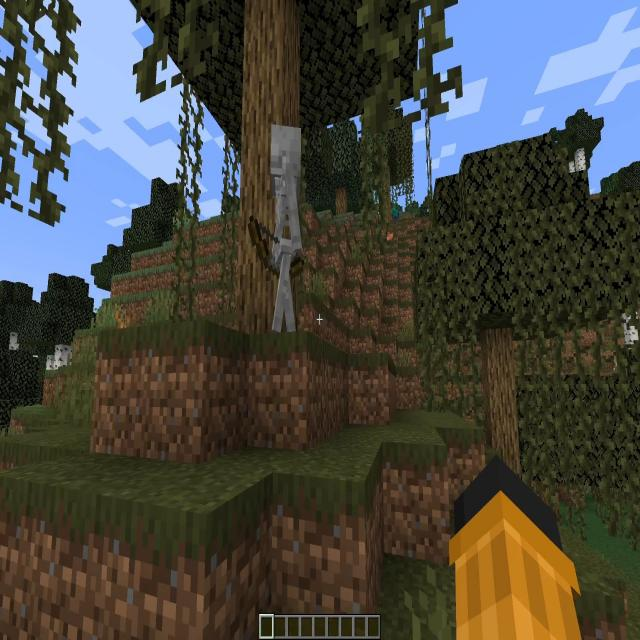Frog: (387, 231, 394, 241)
Skeleton: (266, 123, 301, 334)
Zombie: (392, 204, 400, 219)
